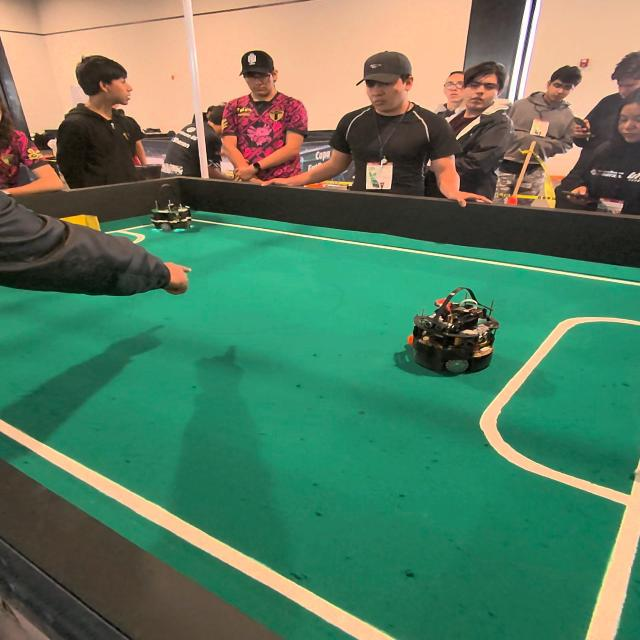Robot: (405, 285, 499, 380), (150, 178, 197, 236)
